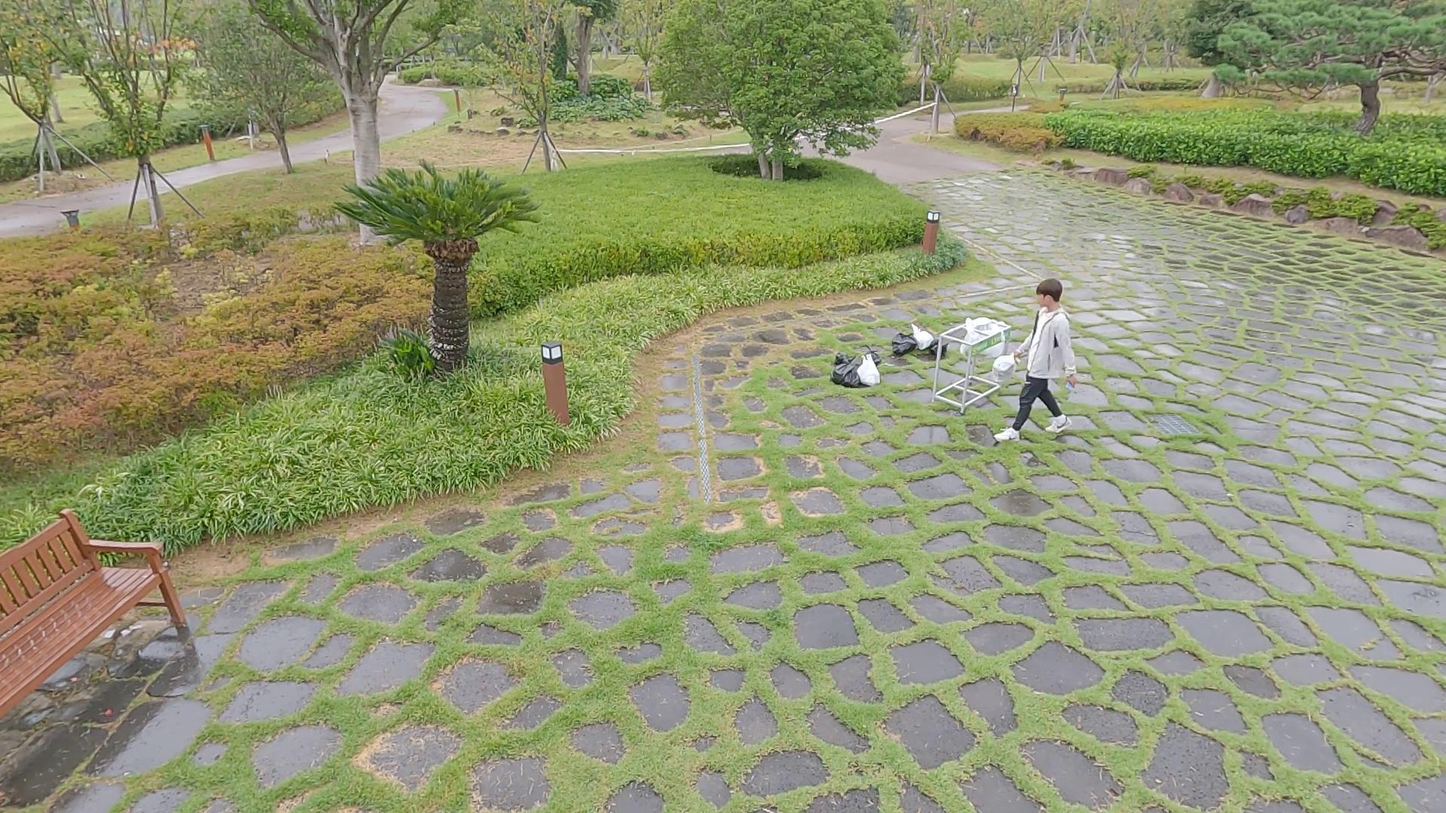person: (994, 277, 1086, 452)
trash: (853, 344, 882, 389), (988, 350, 1023, 387), (832, 348, 860, 392), (910, 324, 936, 350), (858, 342, 885, 367), (891, 334, 916, 354), (927, 338, 951, 357), (835, 348, 857, 364)
